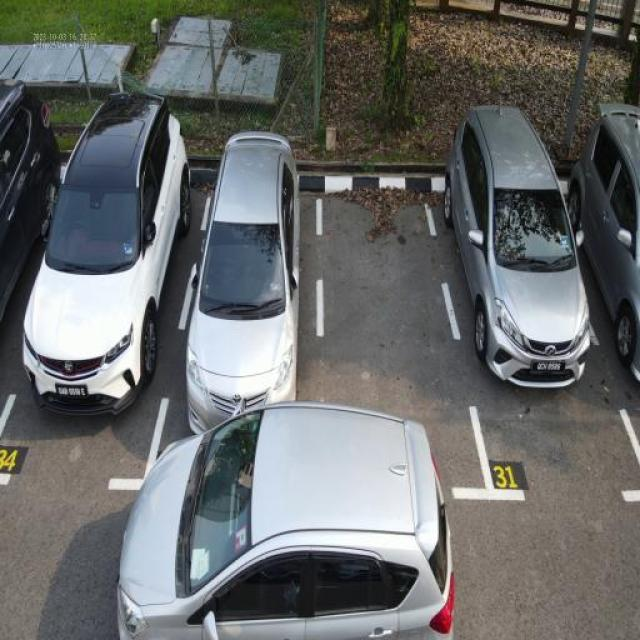Legalparking: (1, 75, 640, 415)
illegalparking: (109, 386, 476, 640)
